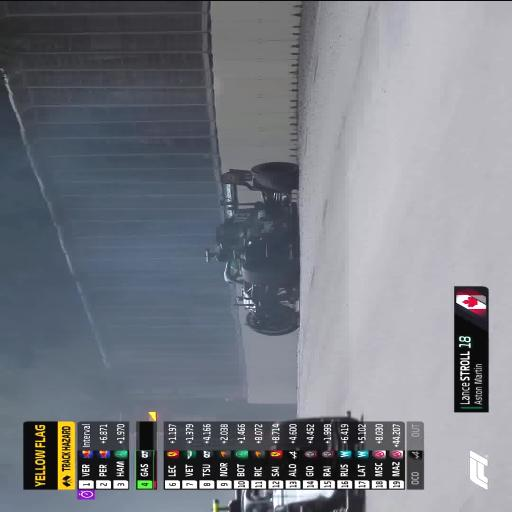f1_car: (206, 161, 298, 335), (213, 488, 360, 512), (280, 412, 359, 450), (270, 441, 311, 456), (332, 458, 337, 465), (291, 459, 293, 460)
